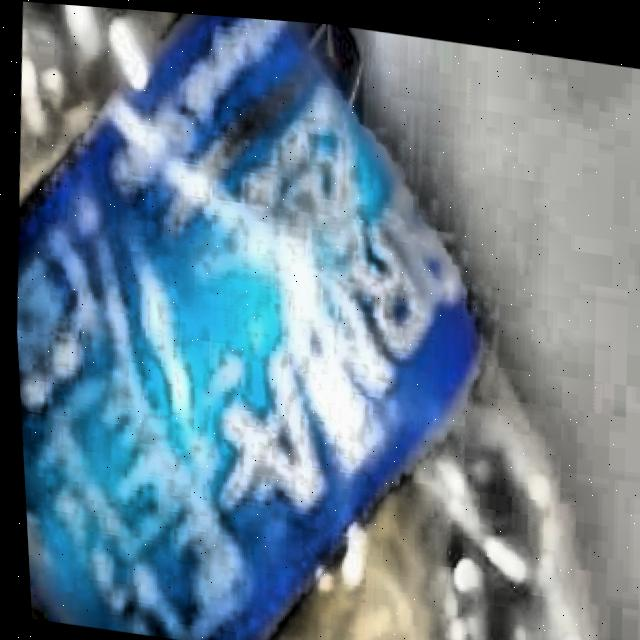plastic: (13, 1, 577, 640)
